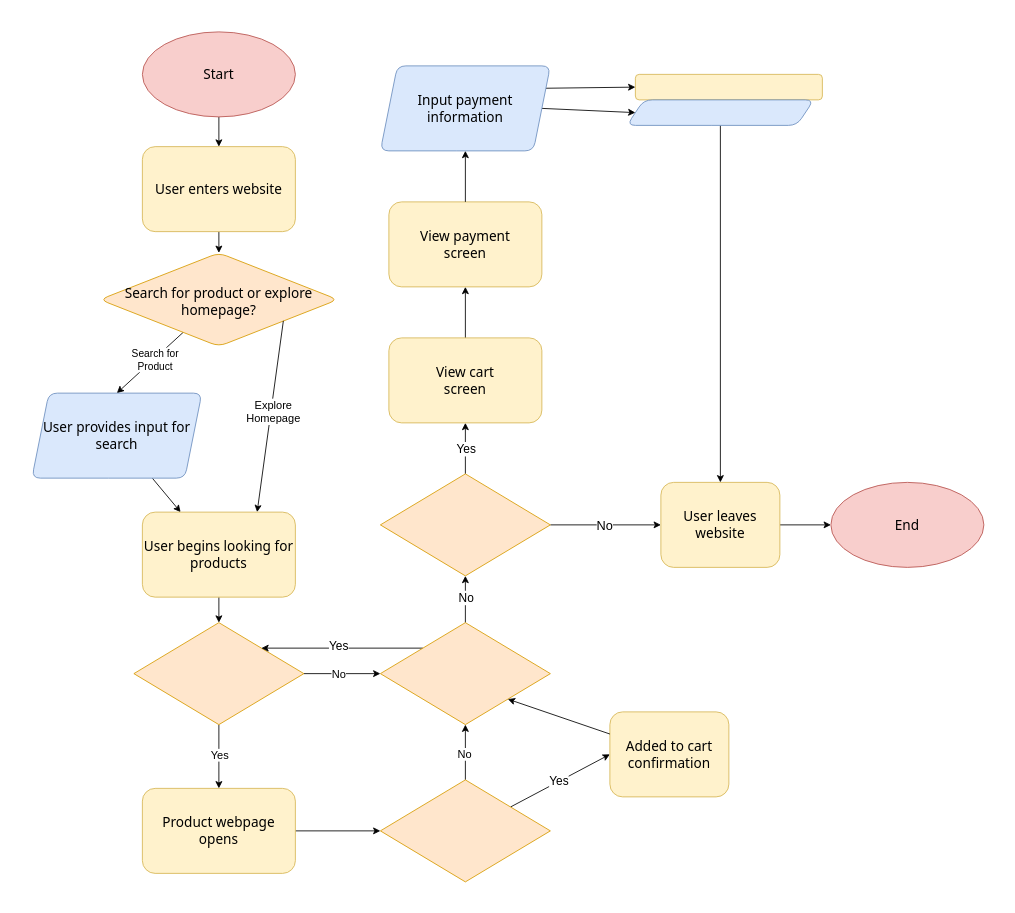
The diagram is 1015 pixels wide and 913 high, and some of its shapes have lost their labels. The centre of each missing label's shape, as x and y in pixels:
"Add to cart?" belongs at (465,830).
"Checkout?" belongs at (465,524).
"Continue shopping?" belongs at (465,673).
"Email sent to user" belongs at (720,112).
"Order confirmation screen" belongs at (728,87).
"View product?" belongs at (218,673).
